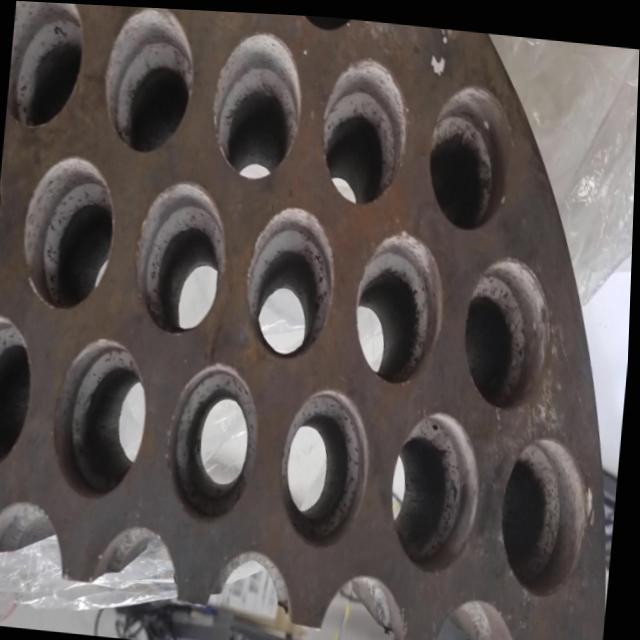Hole: (51, 333, 156, 504), (165, 357, 268, 525), (278, 381, 379, 550), (389, 403, 489, 572), (500, 429, 601, 596), (131, 175, 234, 338), (20, 151, 122, 313), (243, 199, 344, 359), (353, 223, 451, 384), (208, 25, 308, 182), (461, 249, 559, 409), (100, 4, 200, 156), (318, 51, 414, 206), (423, 78, 516, 232), (6, 0, 88, 134), (0, 313, 40, 478), (0, 141, 9, 294)
